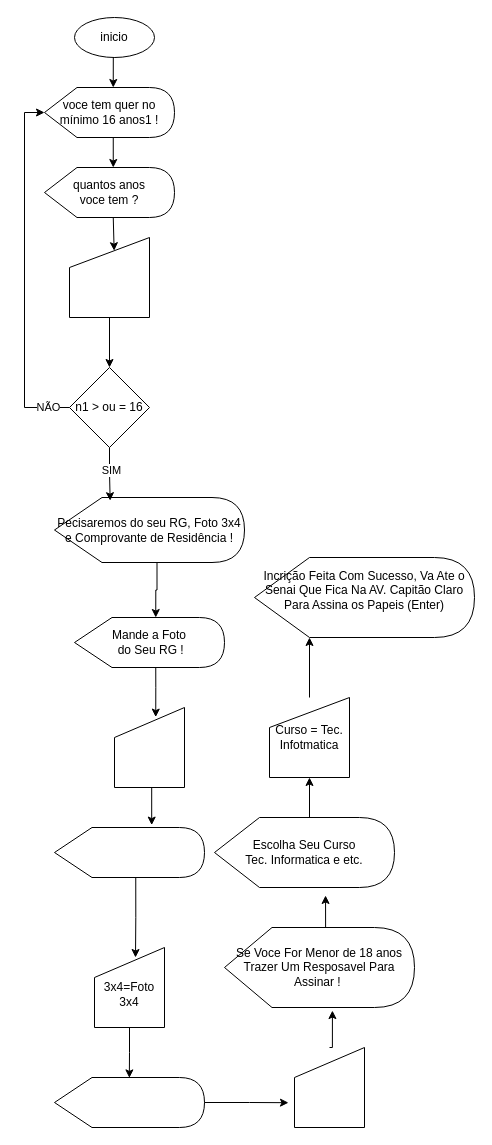
This 492x1145 diagram has some shape labels left out. Each missing label, with the centre of its shape:
"Fot= Foto do RG" belongs at point 149,747.
"Foto do Seu Comprovante de Residencia !" belongs at point 129,1102.
"Mande Sua Foto 3x4" belongs at point 129,852.
"n1 > ou = idade" belongs at point 109,277.
"Resi = Residência" belongs at point 329,1087.
